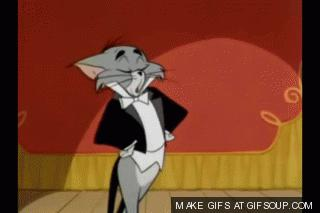tom: (64, 36, 189, 213)
